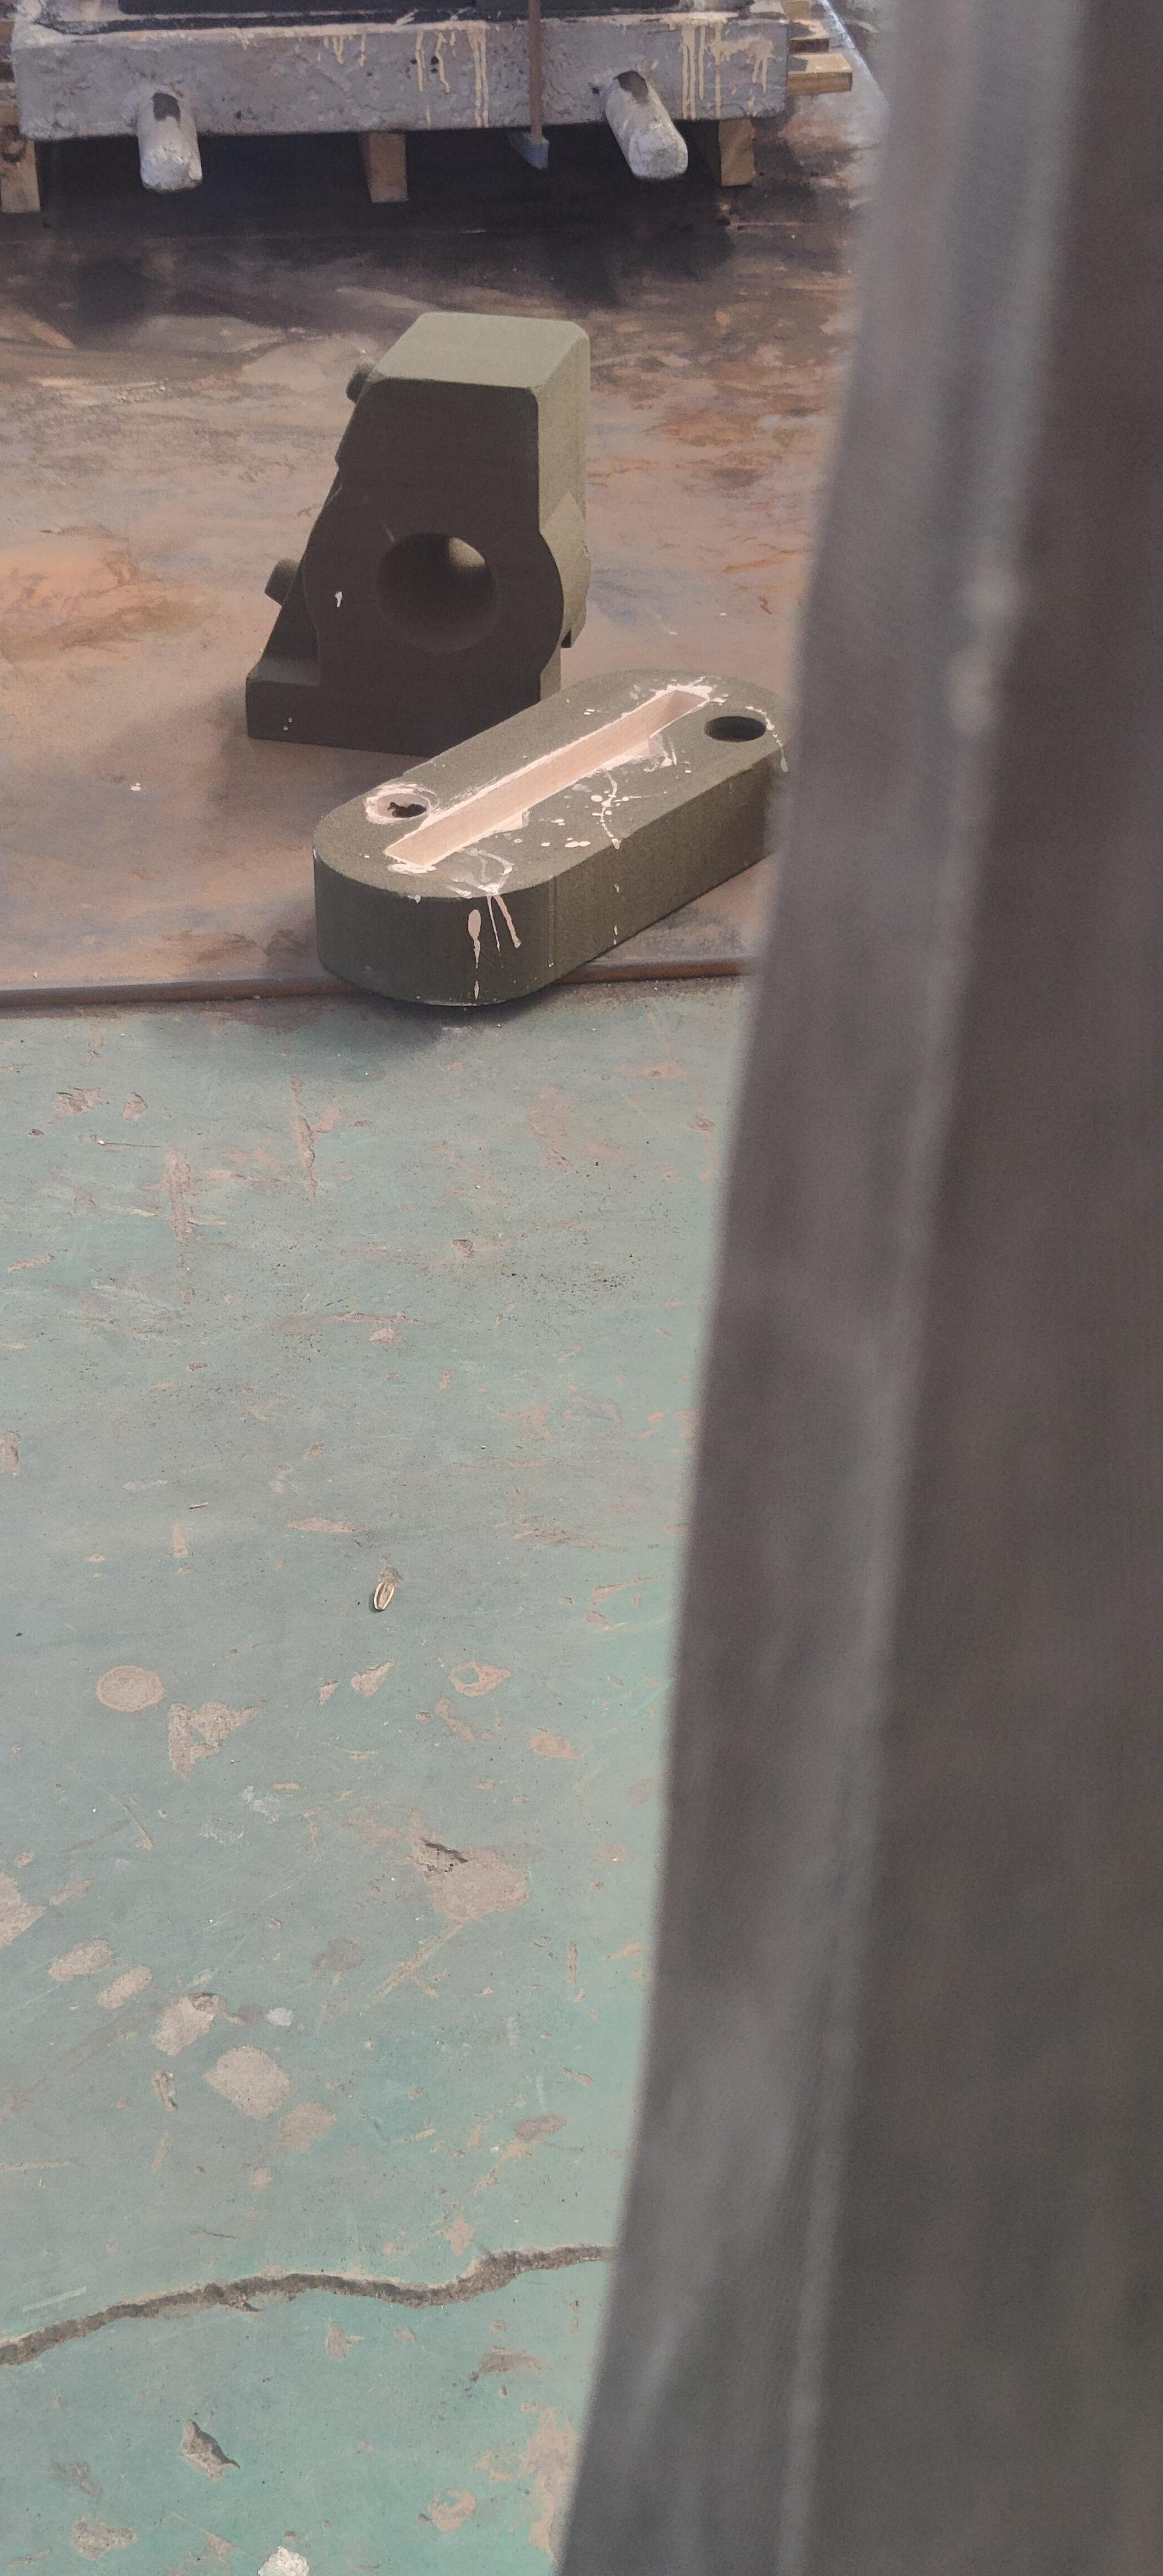pouring hole: (373, 534, 503, 652)
